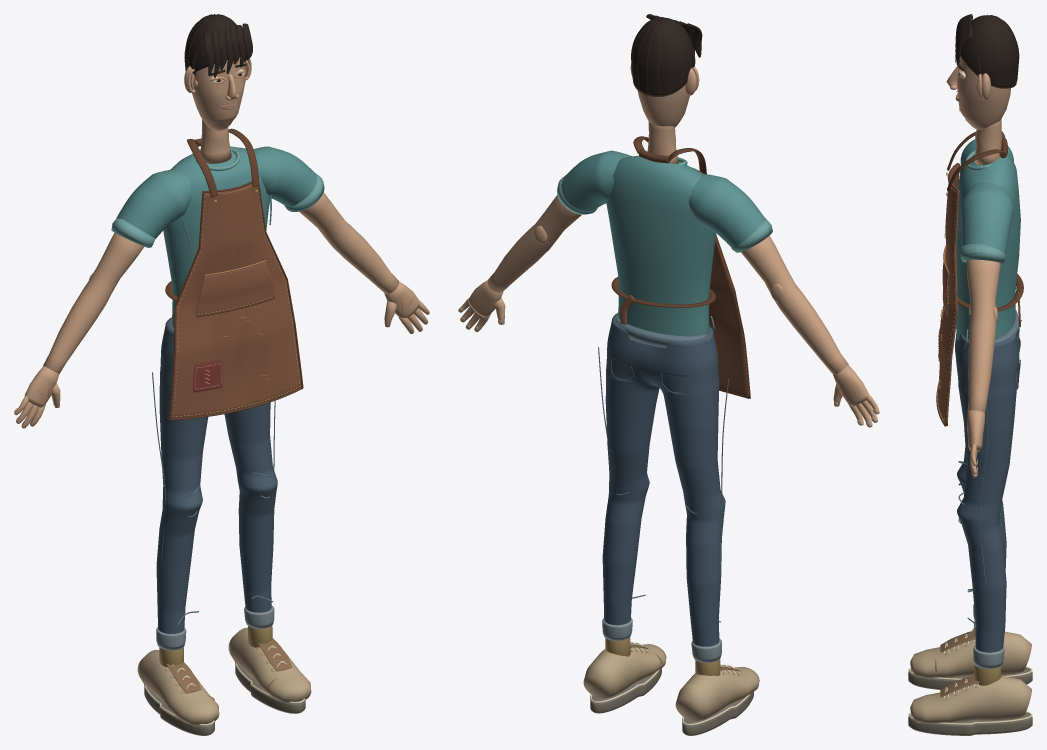
The picture shows the model from 3 angles, left to right: view 1: azimuth 30°, elevation 25°; view 2: azimuth 150°, elevation 25°; view 3: azimuth 270°, elevation 25°; orthographic projection.
Visible parts, largest first — view 1: Apron / Worn saddle leather, Trousers / Indigo work trousers, Jersey / Washed teal jersey, L / Skin | warm olive, L / Washed teal jersey, Hair / Straight espresso hair, R / Skin | warm olive, L / Worn sand canvas shoes, R / Worn sand canvas shoes, Apron / Leather cut edges, R / Washed teal jersey, Head / Skin | warm olive (+6 smaller); view 2: Trousers / Indigo work trousers, Jersey / Washed teal jersey, Hair / Straight espresso hair, L / Skin | warm olive, Apron / Worn saddle leather, L / Washed teal jersey, R / Skin | warm olive, L / Worn sand canvas shoes, R / Worn sand canvas shoes, R / Washed teal jersey, Apron / Leather cut edges, L hand / Skin | warm olive (+7 smaller); view 3: Trousers / Indigo work trousers, Jersey / Washed teal jersey, R / Worn sand canvas shoes, R / Skin | warm olive, Hair / Straight espresso hair, Apron / Worn saddle leather, R / Washed teal jersey, L / Worn sand canvas shoes, Head / Skin | warm olive, Apron / Leather cut edges, R / Rubber soles, Body / Skin | warm olive (+14 smaller).
Boxes of the visible parts, x1,y1,x2,y2 form: Apron / Worn saddle leather: (169,181,301,418); Trousers / Indigo work trousers: (156,317,277,633); Jersey / Washed teal jersey: (163,146,270,328); L / Skin | warm olive: (43,232,144,373); L / Washed teal jersey: (116,169,192,239); Hair / Straight espresso hair: (185,14,252,77); R / Skin | warm olive: (299,192,399,293); L / Worn sand canvas shoes: (137,650,219,726); R / Worn sand canvas shoes: (228,627,311,703); Apron / Leather cut edges: (165,128,303,420); R / Washed teal jersey: (253,146,316,206); Head / Skin | warm olive: (192,57,245,130); Trousers / Indigo work trousers: (602,313,725,646); Jersey / Washed teal jersey: (606,155,716,346); Hair / Straight espresso hair: (631,14,702,96); L / Skin | warm olive: (741,235,848,374); Apron / Worn saddle leather: (620,238,749,398); L / Washed teal jersey: (688,174,764,247); R / Skin | warm olive: (487,195,581,292); L / Worn sand canvas shoes: (675,667,759,720); R / Worn sand canvas shoes: (583,644,666,698); R / Washed teal jersey: (561,150,631,211); Apron / Leather cut edges: (611,136,750,398); L hand / Skin | warm olive: (833,365,879,427); Trousers / Indigo work trousers: (955,334,1020,652); Jersey / Washed teal jersey: (956,153,1020,340); R / Worn sand canvas shoes: (910,676,1031,723); R / Skin | warm olive: (966,259,1000,413); Hair / Straight espresso hair: (955,14,1018,88); Apron / Worn saddle leather: (937,163,1020,425); R / Washed teal jersey: (960,182,1013,254); L / Worn sand canvas shoes: (910,631,1031,678); Head / Skin | warm olive: (957,56,1010,129); Apron / Leather cut edges: (936,131,1023,426); R / Rubber soles: (908,713,1032,735); Body / Skin | warm olive: (974,119,1001,165).
Size of the model in its own units: 1.15 by 1.8 by 0.2958.
